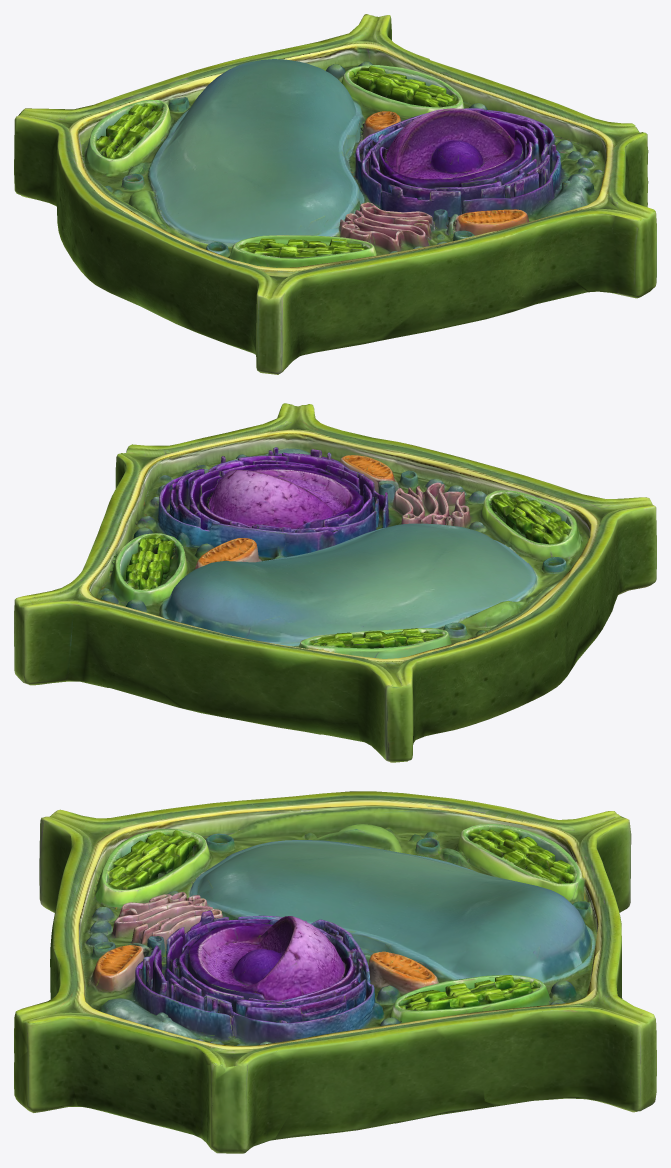
Rendered from plant-cell-v2.glb.
The picture shows the model from 3 angles, top to bottom: view 1: azimuth 30°, elevation 25°; view 2: azimuth 150°, elevation 25°; view 3: azimuth 270°, elevation 25°; orthographic projection. The views are drawn at different scales.
Visible parts, largest first — view 1: Mesh_0; view 2: Mesh_0; view 3: Mesh_0.
Part boxes in pixels (x1,y1,x2,y2): Mesh_0: (14,14,656,374); Mesh_0: (14,403,656,762); Mesh_0: (14,791,656,1153).
Bounding box in the file's own units: 1.91 × 0.4415 × 1.89.
Materials: 1 (1 with a texture image).
